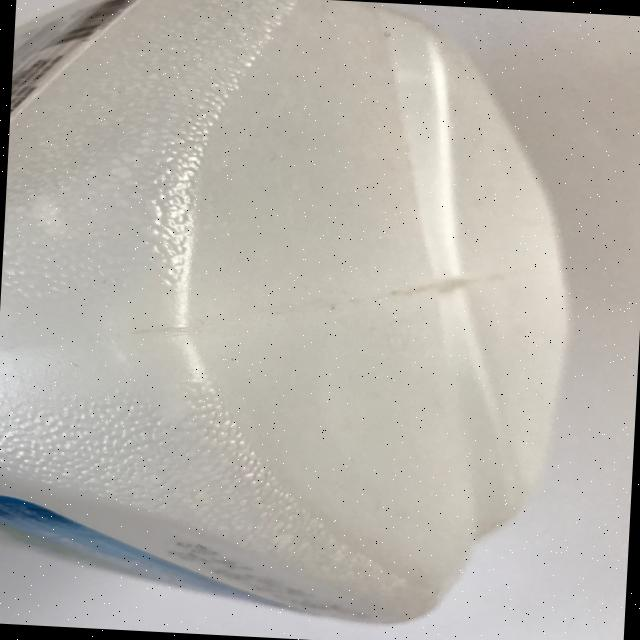plastic: (0, 0, 586, 634)
